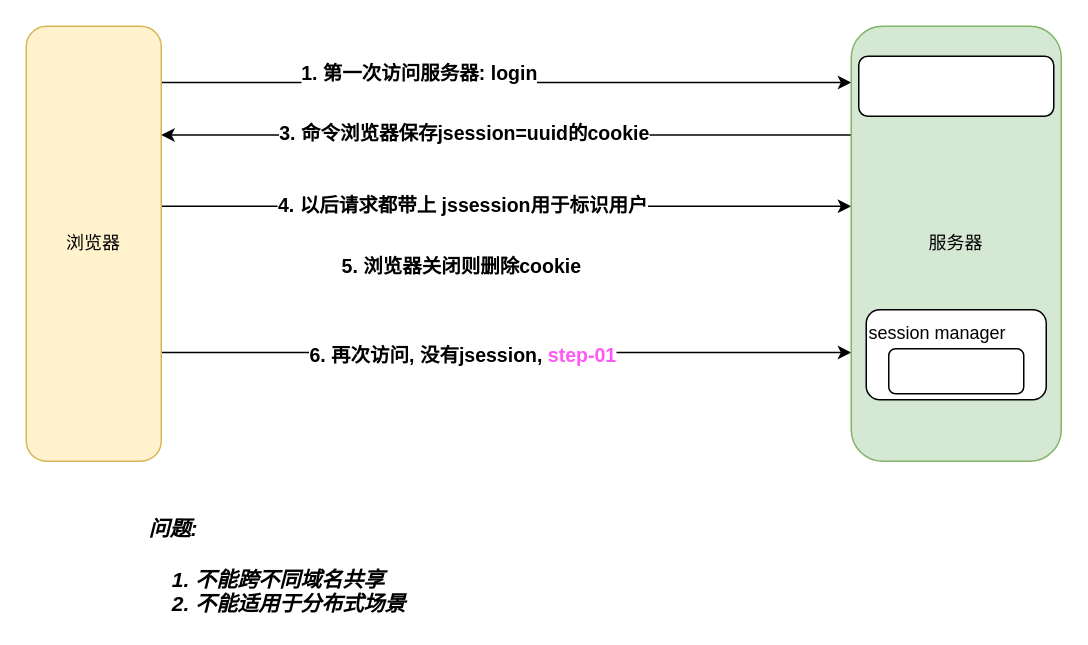
The diagram is 1088 pixels wide and 645 high, and some of its shapes have lost their labels. The centre of each missing label's shape, as x and y in pixels:
"2. Login Success: 用户信息放入 session" belongs at point 955,85.
"uuid user=v, k=v" belongs at point 955,370.
